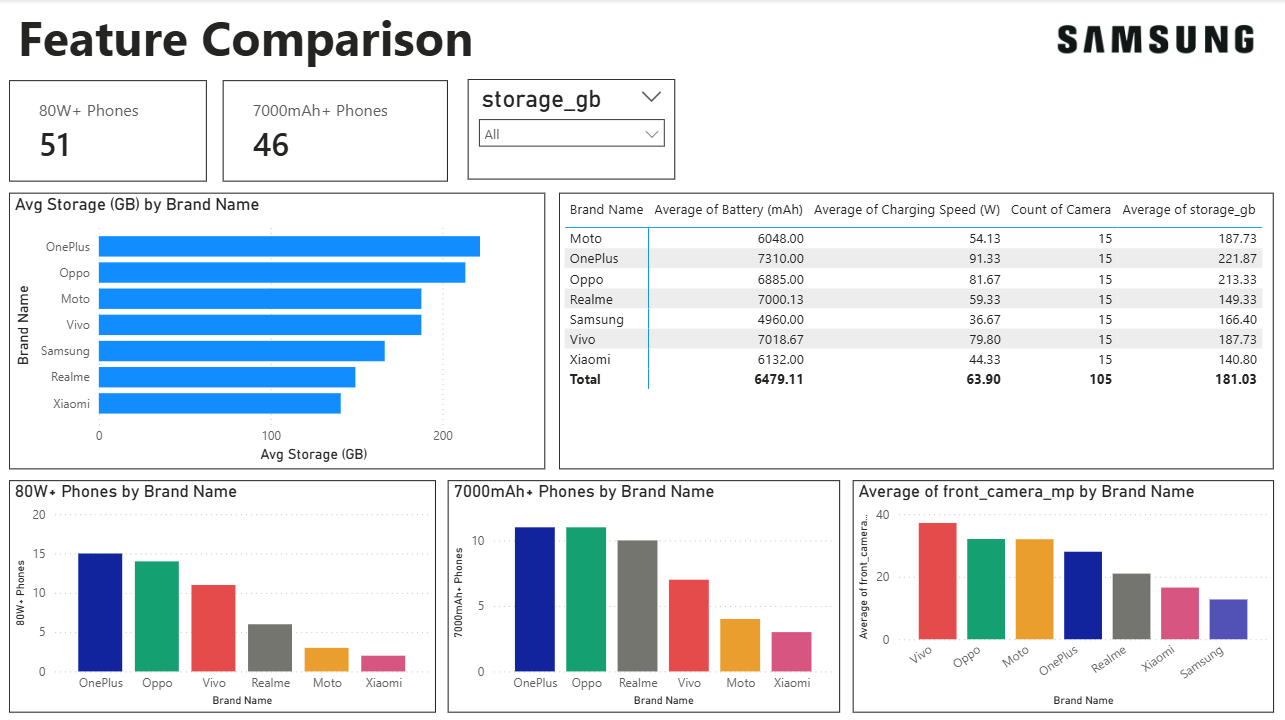

This screenshot's page, from the dashboard's own definition file:
{"tool":"powerbi","page":{"name":"Feature Comparison","canvas":[1280,720],"ordinal":2},"visuals":[{"type":"textbox","box":[9.9,0,508.5,98.6],"z":0},{"type":"clusteredColumnChart","fields":{"Category":["MobileTable.Brand Name"],"Y":["MobileTable.80W+ Phones"]},"box":[10.2,479.5,424.5,231.4],"z":1000},{"type":"clusteredColumnChart","fields":{"Category":["MobileTable.Brand Name"],"Y":["MobileTable.7000mAh+ Phones"]},"box":[446.3,479.5,390,231.4],"z":2000},{"type":"clusteredColumnChart","fields":{"Y":["Avg(MobileTable.front_camera_mp)"],"Category":["MobileTable.Brand Name"]},"box":[849.1,479.5,419.4,231.4],"z":3000},{"type":"clusteredBarChart","fields":{"Category":["MobileTable.Brand Name"],"Y":["MobileTable.Avg Storage (GB)"]},"box":[10.2,193.1,533.2,274.9],"z":4000},{"type":"pivotTable","fields":{"Values":["Avg(MobileTable.Battery (mAh))","Avg(MobileTable.Charging Speed (W))","CountNonNull(MobileTable.Camera)","Avg(MobileTable.storage_gb)"],"Rows":["MobileTable.Brand Name"]},"box":[557.5,193.1,711,274.9],"z":5000},{"type":"image","box":[1035.2,0,232.4,80.3],"z":6000},{"type":"cardVisual","fields":{"Data":["MobileTable.80W+ Phones"]},"box":[10.2,80.6,196.9,101],"z":7000},{"type":"cardVisual","fields":{"Data":["MobileTable.7000mAh+ Phones"]},"box":[222.5,80.6,223.8,101],"z":8000},{"type":"slicer","fields":{"Values":["MobileTable.storage_gb"]},"box":[466.2,79.7,206.8,100],"z":9000}]}

Visuals, with their boxes in screenshot pixels (x1, y1, x2, y2), scaled from the page's 1280x720 canvas onto the 1285x720 screenshot:
textbox: [10, 0, 520, 99]
clusteredColumnChart - MobileTable.Brand Name x MobileTable.80W+ Phones: [10, 480, 436, 711]
clusteredColumnChart - MobileTable.Brand Name x MobileTable.7000mAh+ Phones: [448, 480, 840, 711]
clusteredColumnChart - Avg(MobileTable.front_camera_mp) x MobileTable.Brand Name: [852, 480, 1273, 711]
clusteredBarChart - MobileTable.Brand Name x MobileTable.Avg Storage (GB): [10, 193, 546, 468]
pivotTable - Avg(MobileTable.Battery (mAh)) x Avg(MobileTable.Charging Speed (W)): [560, 193, 1273, 468]
image: [1039, 0, 1273, 80]
cardVisual - MobileTable.80W+ Phones: [10, 81, 208, 182]
cardVisual - MobileTable.7000mAh+ Phones: [223, 81, 448, 182]
slicer - MobileTable.storage_gb: [468, 80, 676, 180]
